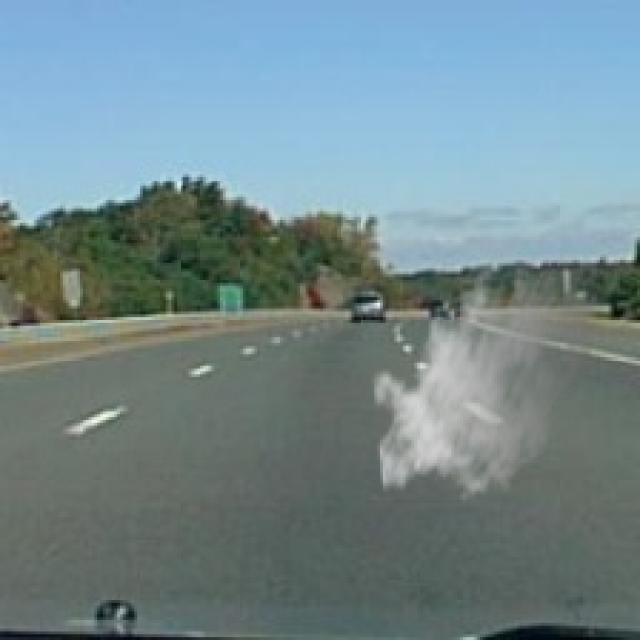smoke: (371, 240, 600, 506)
